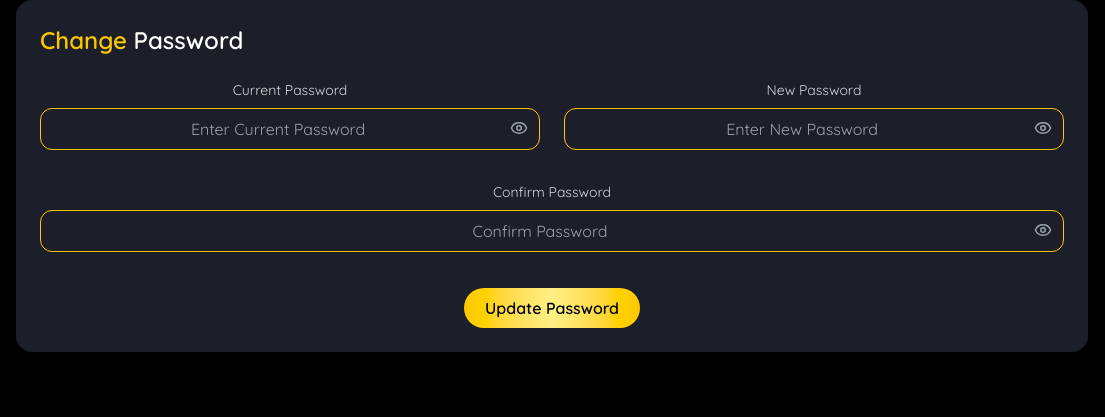
Scenario: ChangePassword Component › shows error if confirm password does not match
Step 1. Type "current123" into the password field with placeholder "Enter Current Password" → (290, 129), box [40,108,540,150]
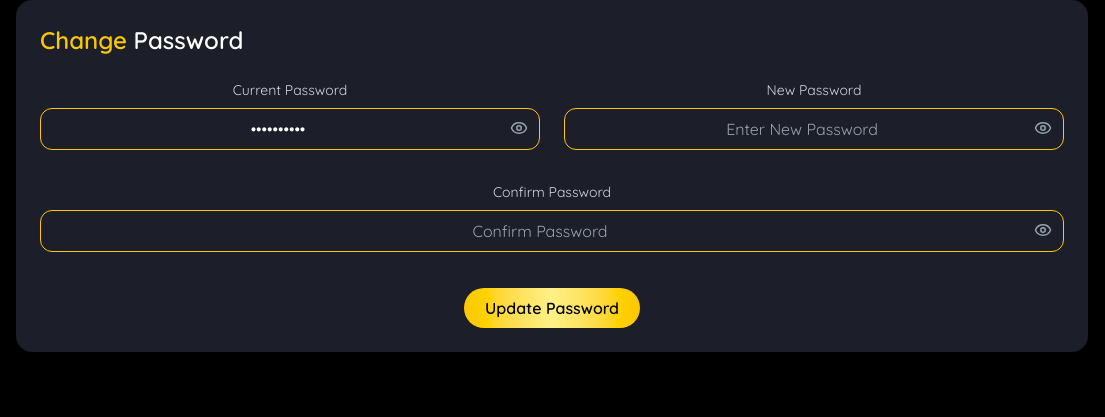
Step 2. Type "newpass123" into the password field with placeholder "Enter New Password" → (814, 129), box [564,108,1064,150]
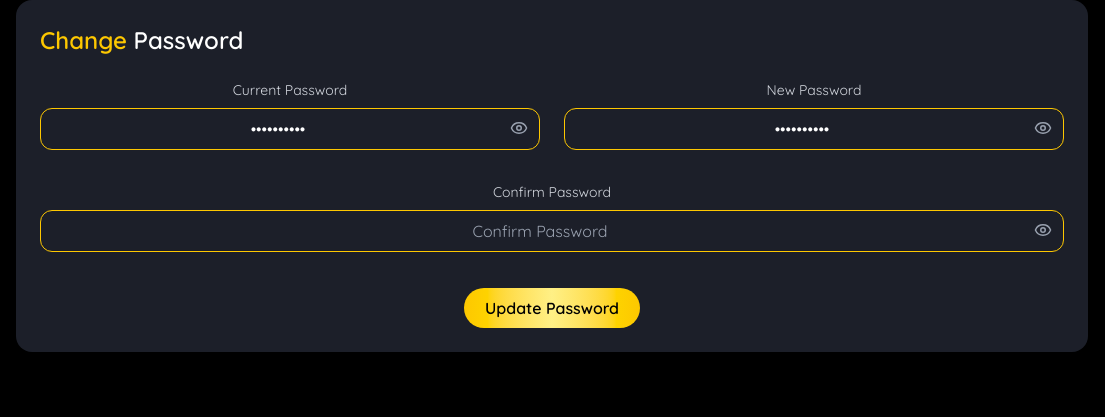
Step 3. Type "differentpass" into the password field with placeholder "Confirm Password" → (552, 231), box [40,210,1064,252]
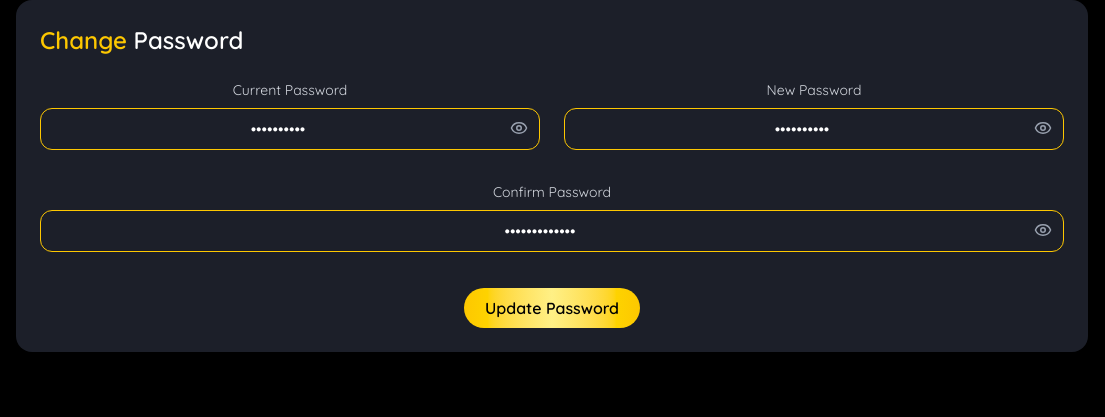
Step 4. Click the button "Update Password" → (552, 308), box [464,288,640,328]
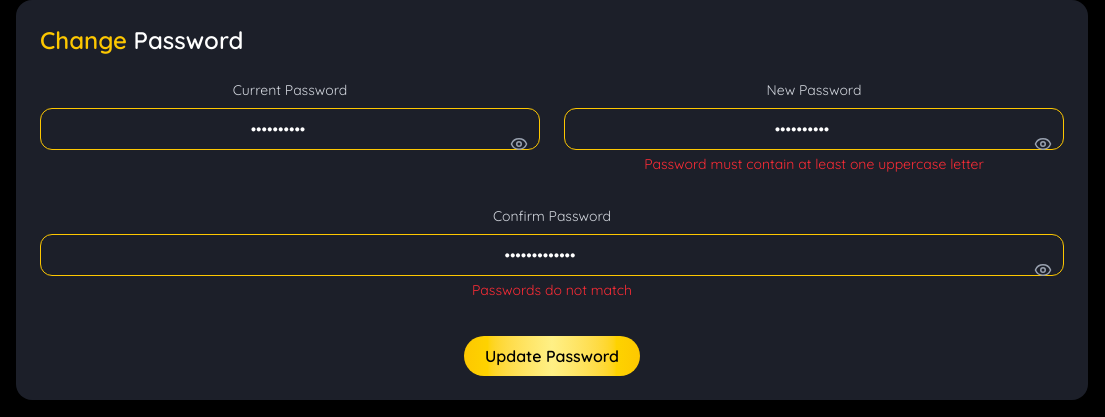
Now the text "Passwords do not match" is shown, box [472,281,632,299]
